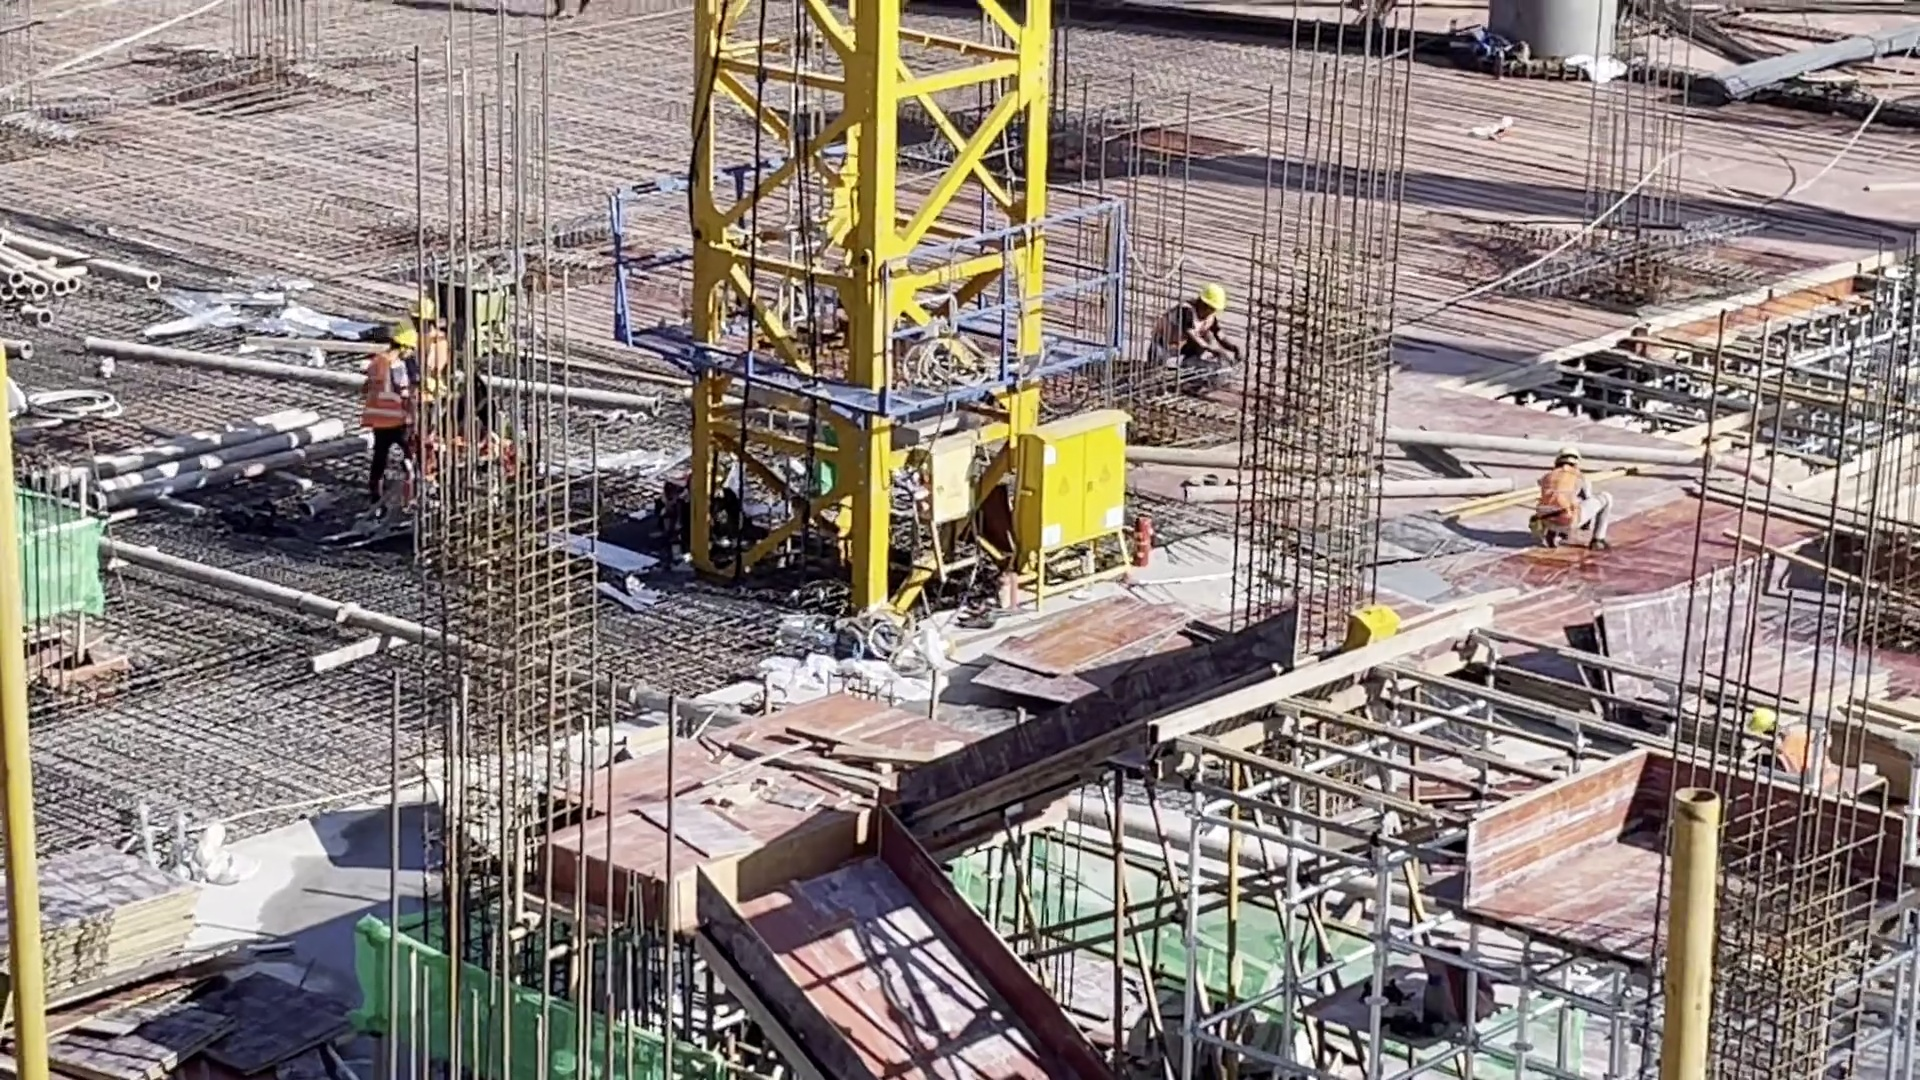board: (61, 938, 370, 1080), (19, 814, 196, 981)
ebox: (1016, 412, 1137, 599), (920, 424, 986, 581), (1340, 589, 1404, 637)
helmet: (1200, 284, 1231, 316), (1750, 709, 1783, 738), (388, 325, 424, 350), (1553, 447, 1583, 466)
person: (359, 325, 417, 519), (1145, 284, 1243, 383), (1748, 706, 1847, 799), (1528, 449, 1612, 544), (404, 298, 450, 456)
rebar: (1680, 1, 1920, 107)
vest: (1147, 302, 1217, 374), (363, 358, 410, 447), (1772, 729, 1839, 782), (1540, 468, 1587, 527)
